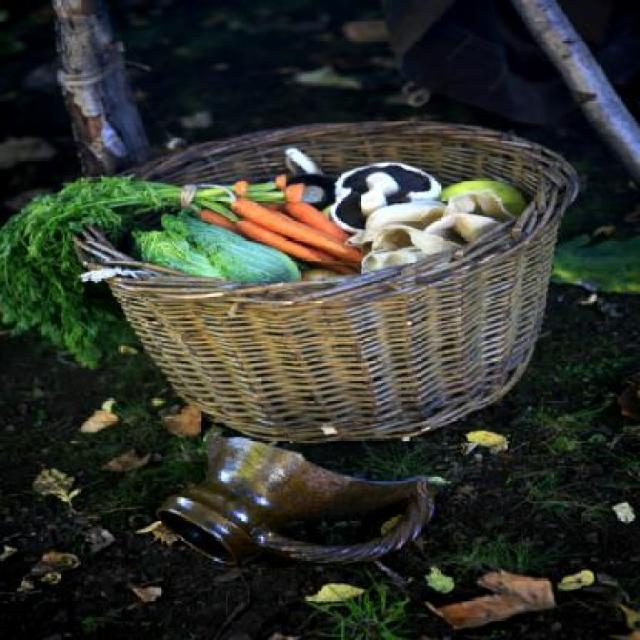Carrot: (227, 190, 361, 253)
